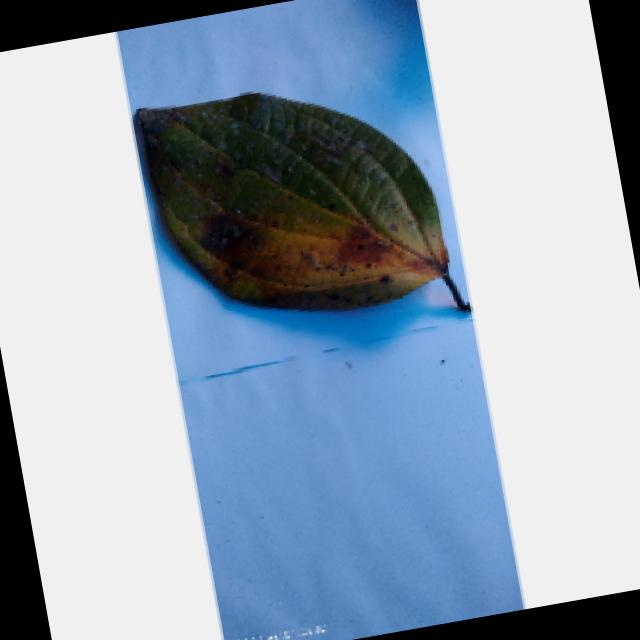slow-decline: (134, 49, 476, 360)
